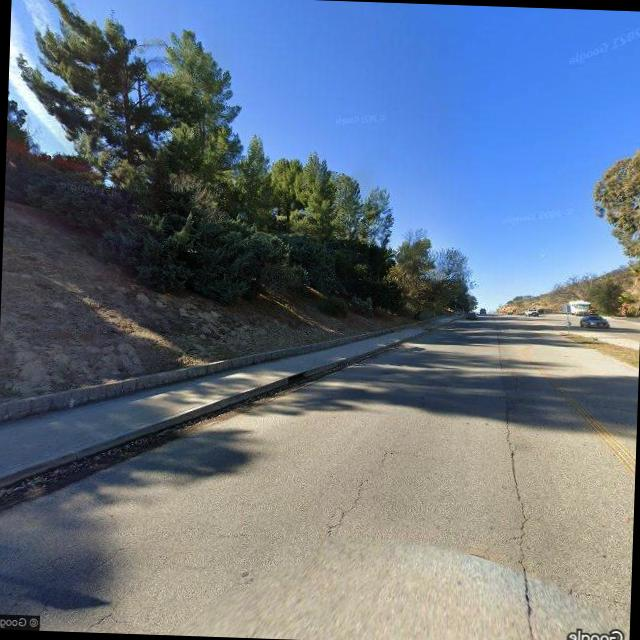pothole: (494, 398, 536, 564), (324, 446, 396, 540)
